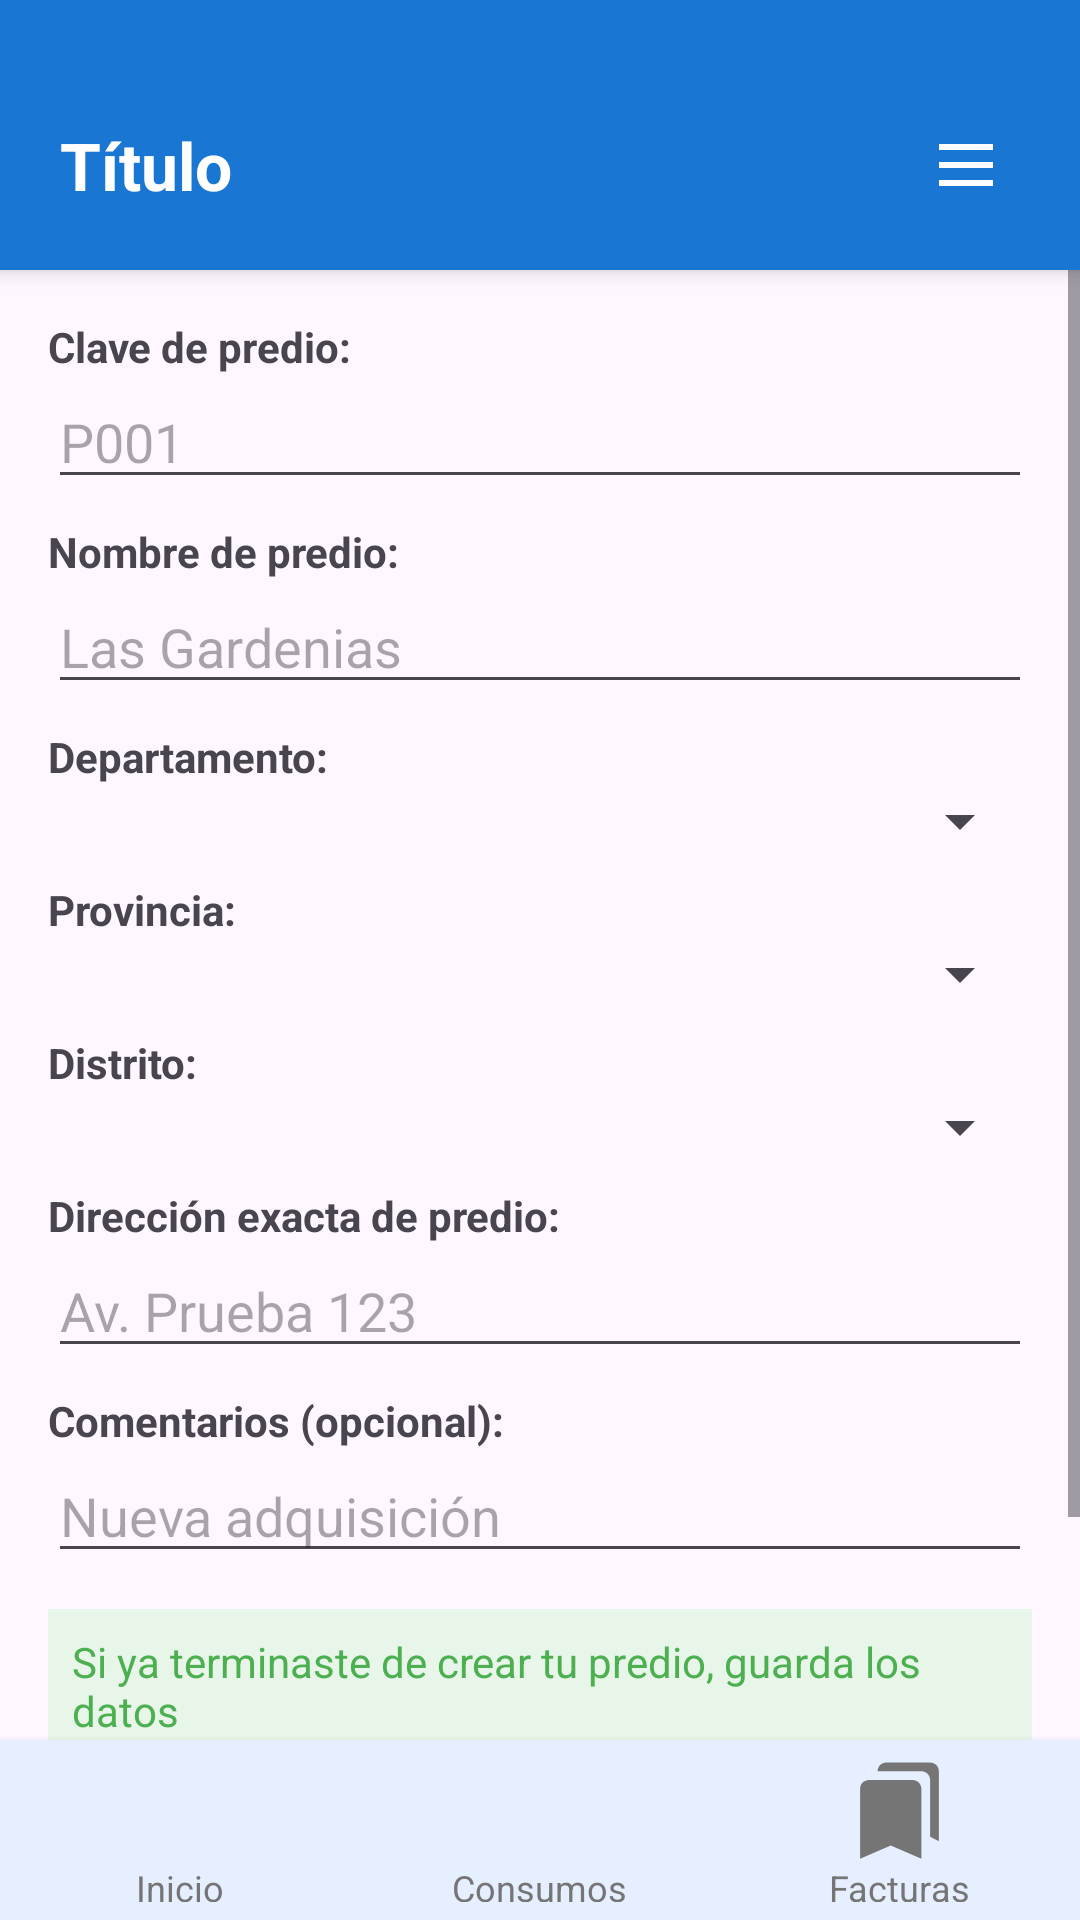

Named icons in this screenshot (1080 x 1920) and their centers, (x,y):
Menú principal: (966,165)
